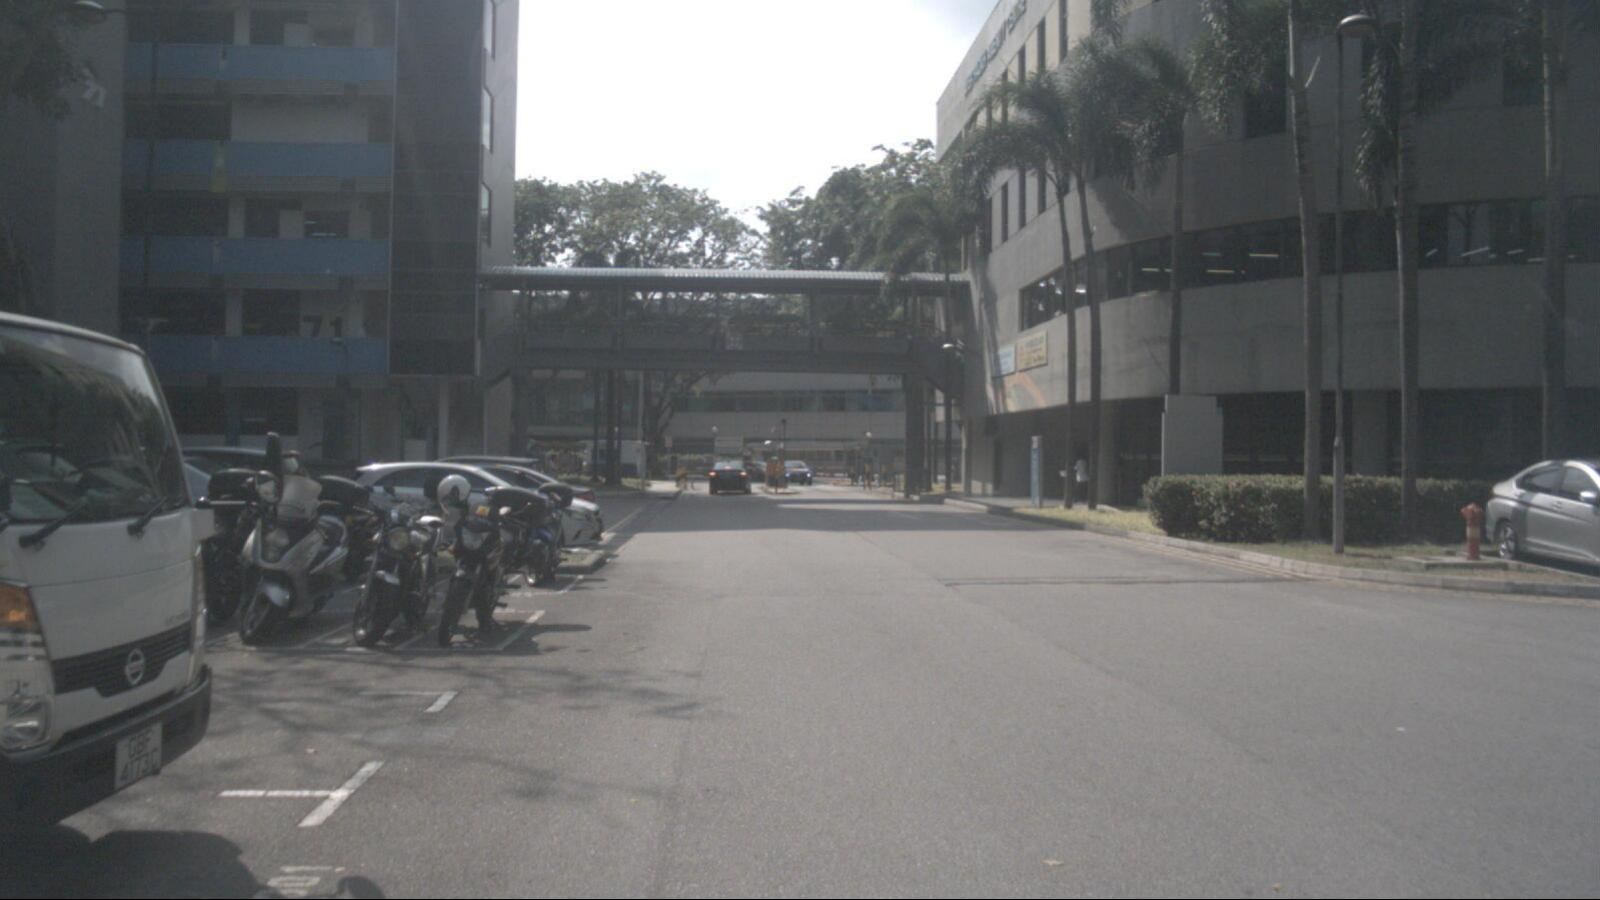human.pedestrian.adult-pedestrian.moving: (1072, 453, 1089, 503), (547, 454, 561, 496)
